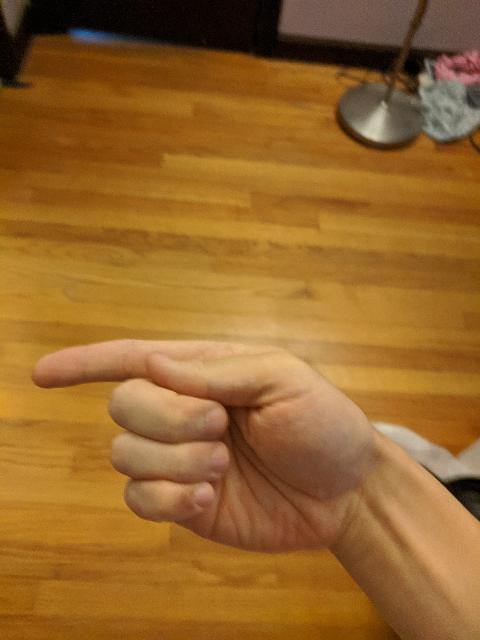G: (27, 334, 379, 560)
